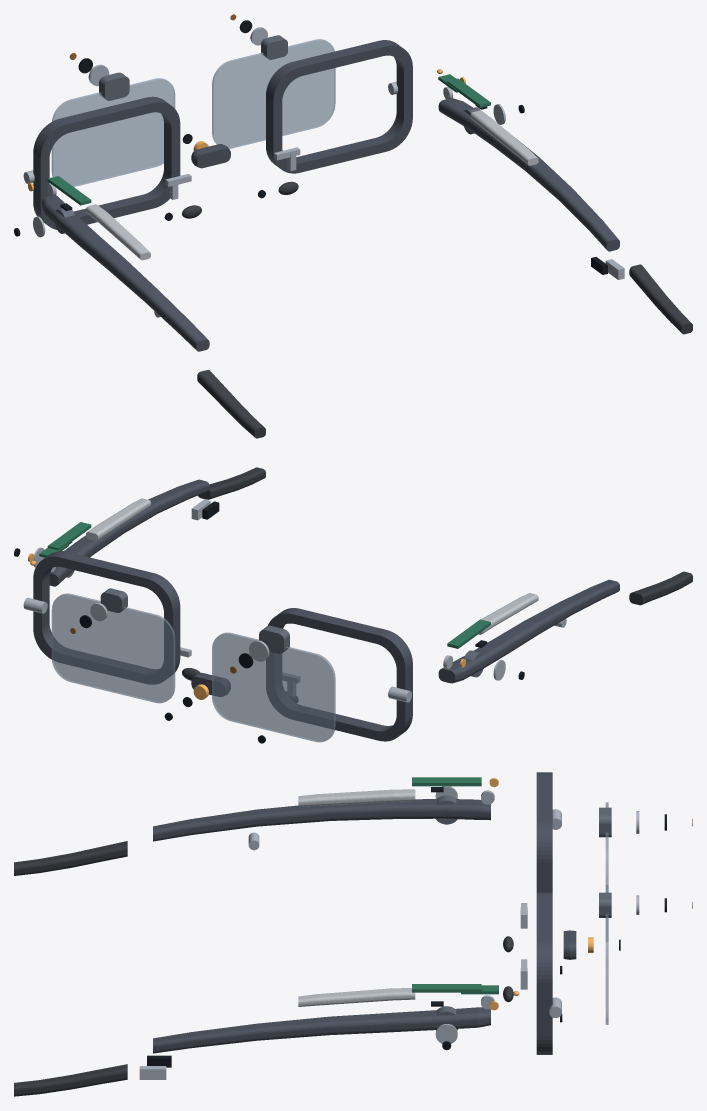
Rendered from SIGNLINK_Vision_Exploded.glb.
3 renders of one model, top to bottom at view 1: azimuth 30°, elevation 25°; view 2: azimuth 150°, elevation 25°; view 3: azimuth 270°, elevation 25°, orthographic. The views are drawn at different scales.
Parts seen in each view (by area): view 1: 06 | Right Optical Lens, 02 | Left Optical Lens, 05 | Right Front Frame Rim, 01 | Left Front Frame Rim, 10 | Left Temple Arm, 16 | Right Temple Arm, 11 | Left Temple Tip / Earpiece, 17 | Right Temple Tip / Earpiece, 18 | Right Rechargeable Battery Cell, 12 | Left Rechargeable Battery Cell, 09 | Central Nose Bridge, 22 | Primary Wide-Angle Scene Camera Camera Housing; view 2: 06 | Right Optical Lens, 02 | Left Optical Lens, 05 | Right Front Frame Rim, 01 | Left Front Frame Rim, 10 | Left Temple Arm, 16 | Right Temple Arm, 11 | Left Temple Tip / Earpiece, 17 | Right Temple Tip / Earpiece, 18 | Right Rechargeable Battery Cell, 12 | Left Rechargeable Battery Cell, 22 | Primary Wide-Angle Scene Camera Camera Housing, 09 | Central Nose Bridge (+3 smaller); view 3: 16 | Right Temple Arm, 10 | Left Temple Arm, 05 | Right Front Frame Rim, 01 | Left Front Frame Rim, 17 | Right Temple Tip / Earpiece, 11 | Left Temple Tip / Earpiece, 12 | Left Rechargeable Battery Cell, 18 | Right Rechargeable Battery Cell, 13 | Left Control PCB, 19 | Right Control PCB.
Boxes of the visible parts, box(x1,y1,x2,y2) form: 06 | Right Optical Lens: box(212, 39, 335, 148); 02 | Left Optical Lens: box(51, 78, 175, 186); 05 | Right Front Frame Rim: box(266, 40, 412, 173); 01 | Left Front Frame Rim: box(33, 96, 180, 229); 10 | Left Temple Arm: box(41, 195, 209, 351); 16 | Right Temple Arm: box(438, 98, 619, 251); 11 | Left Temple Tip / Earpiece: box(197, 370, 265, 438); 17 | Right Temple Tip / Earpiece: box(629, 264, 692, 334); 18 | Right Rechargeable Battery Cell: box(470, 110, 538, 165); 12 | Left Rechargeable Battery Cell: box(86, 204, 150, 260); 09 | Central Nose Bridge: box(191, 144, 230, 168); 22 | Primary Wide-Angle Scene Camera Camera Housing: box(99, 72, 129, 100); 06 | Right Optical Lens: box(51, 593, 175, 703); 02 | Left Optical Lens: box(212, 632, 335, 742); 05 | Right Front Frame Rim: box(33, 551, 180, 684); 01 | Left Front Frame Rim: box(266, 608, 412, 741); 10 | Left Temple Arm: box(438, 579, 619, 683); 16 | Right Temple Arm: box(49, 479, 209, 586); 11 | Left Temple Tip / Earpiece: box(629, 571, 692, 605); 17 | Right Temple Tip / Earpiece: box(198, 467, 265, 499); 18 | Right Rechargeable Battery Cell: box(86, 498, 150, 540); 12 | Left Rechargeable Battery Cell: box(478, 593, 538, 634); 22 | Primary Wide-Angle Scene Camera Camera Housing: box(259, 625, 289, 653); 09 | Central Nose Bridge: box(191, 672, 230, 696); 16 | Right Temple Arm: box(153, 1007, 490, 1053); 10 | Left Temple Arm: box(153, 799, 490, 841); 05 | Right Front Frame Rim: box(536, 892, 552, 1054); 01 | Left Front Frame Rim: box(536, 772, 552, 892); 17 | Right Temple Tip / Earpiece: box(14, 1064, 127, 1096); 11 | Left Temple Tip / Earpiece: box(14, 841, 127, 875); 12 | Left Rechargeable Battery Cell: box(298, 789, 415, 806); 18 | Right Rechargeable Battery Cell: box(298, 988, 415, 1006); 13 | Left Control PCB: box(412, 777, 481, 786); 19 | Right Control PCB: box(412, 984, 481, 992).
Size of the model in its own units: 0.196 by 0.0506 by 0.2149.
